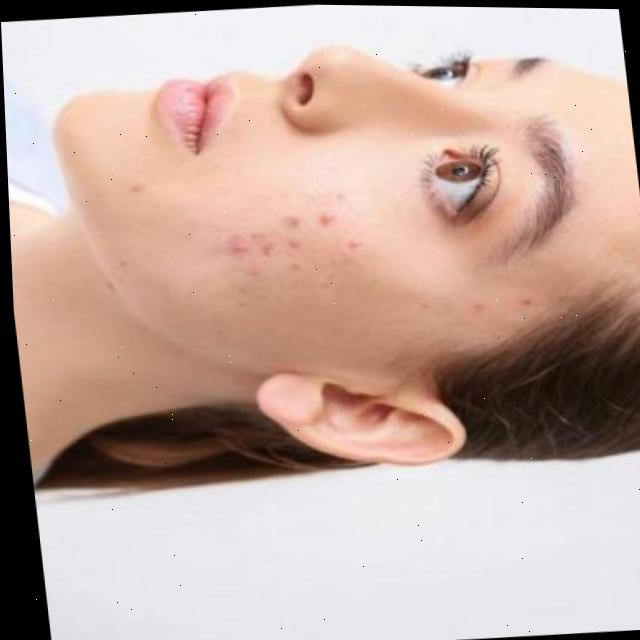Acne: (167, 179, 363, 320)
